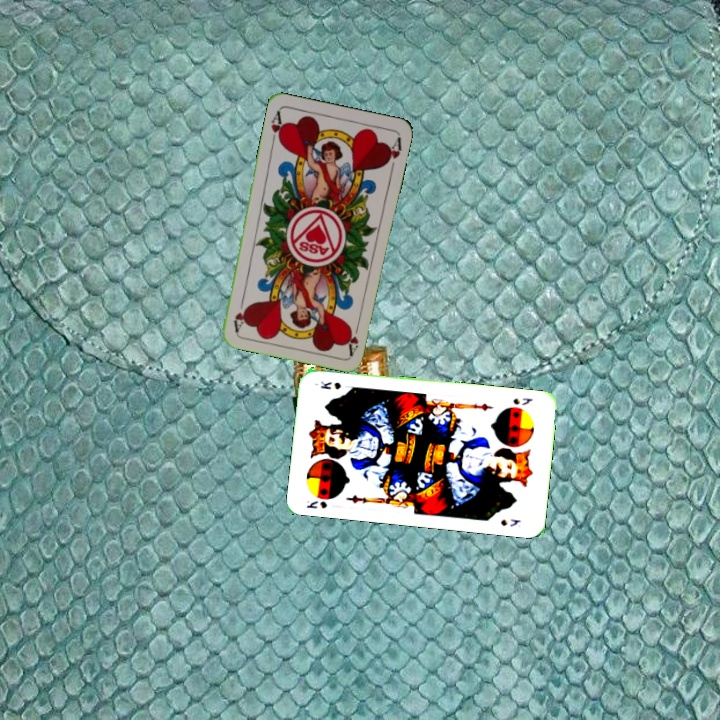HA: (267, 107, 287, 147), (343, 317, 363, 357)
SK: (302, 496, 330, 511), (509, 394, 535, 408)
